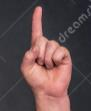up: (18, 5, 73, 95)
